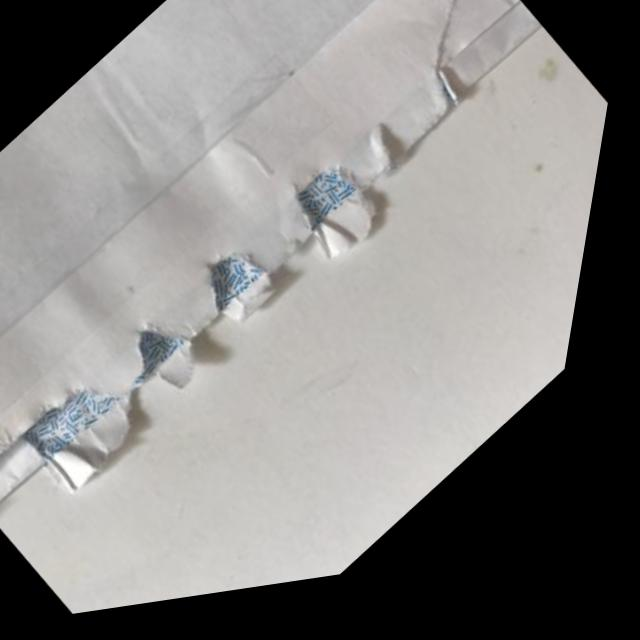paper: (0, 0, 636, 621)
